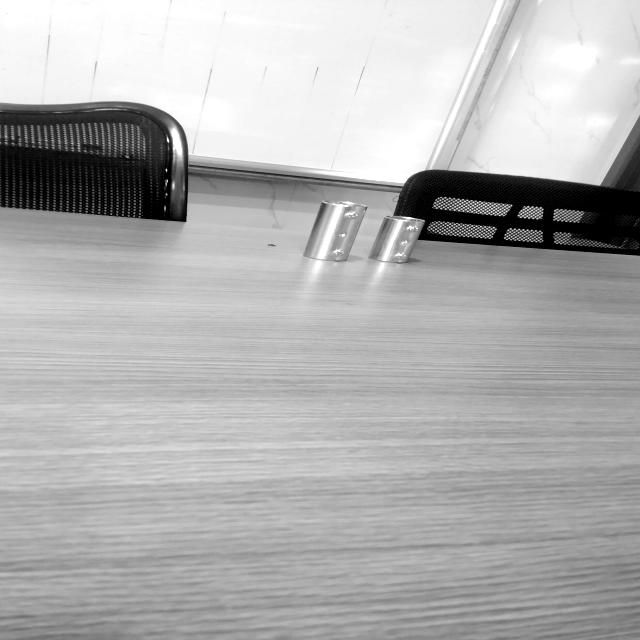Co_Lon: (302, 192, 367, 270)
Co_Nho: (367, 206, 425, 273)
